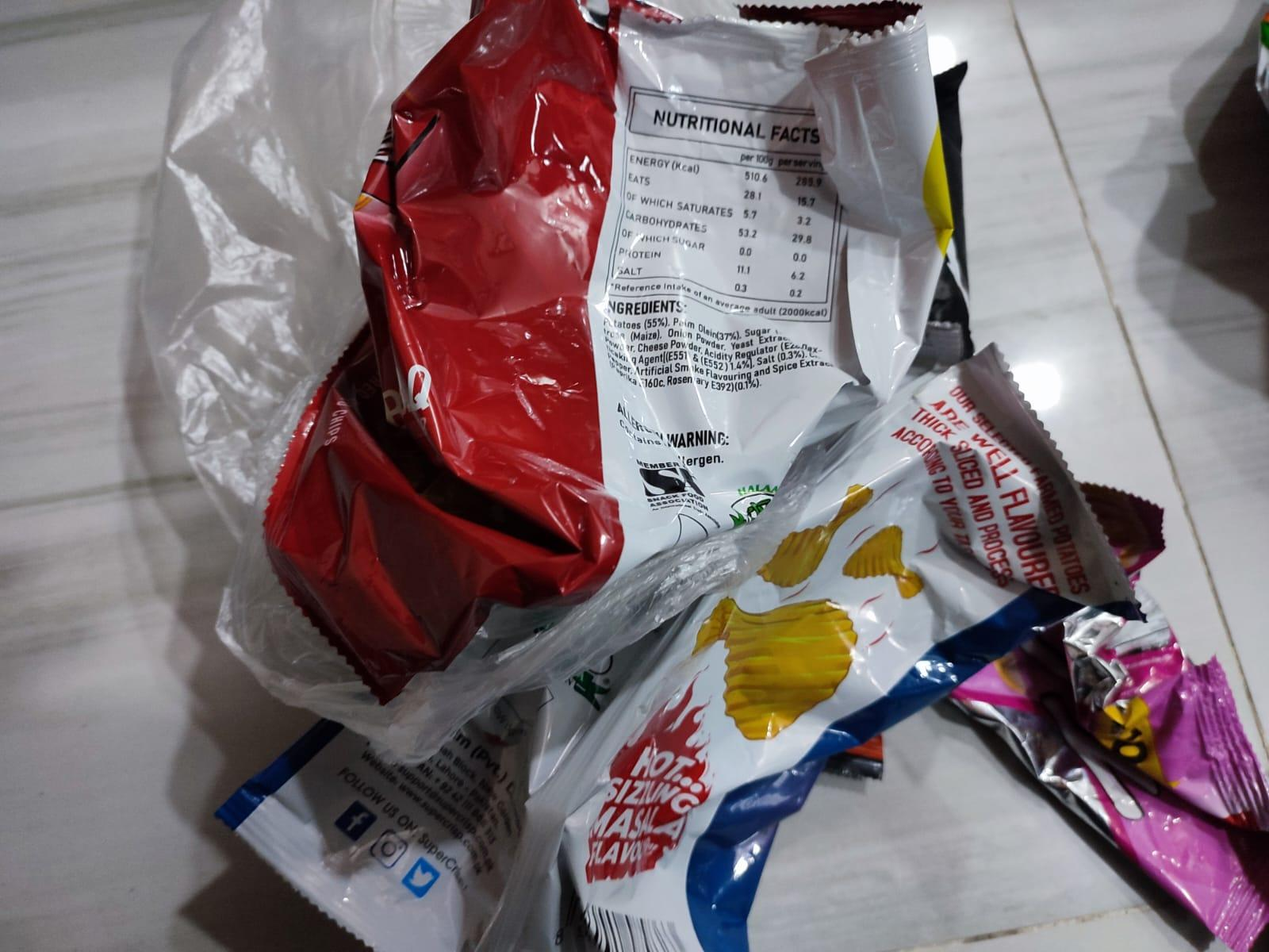garbage: (120, 0, 1269, 952)
